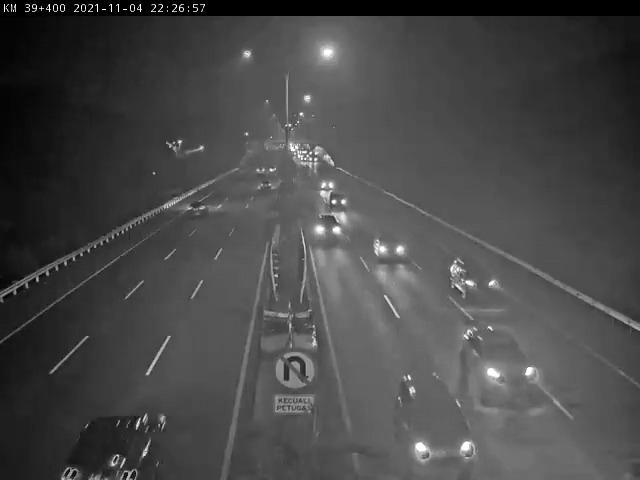car: (391, 370, 477, 474), (54, 415, 165, 480), (464, 322, 536, 397), (449, 254, 502, 299), (371, 226, 407, 261), (313, 213, 341, 241), (184, 198, 209, 218)
